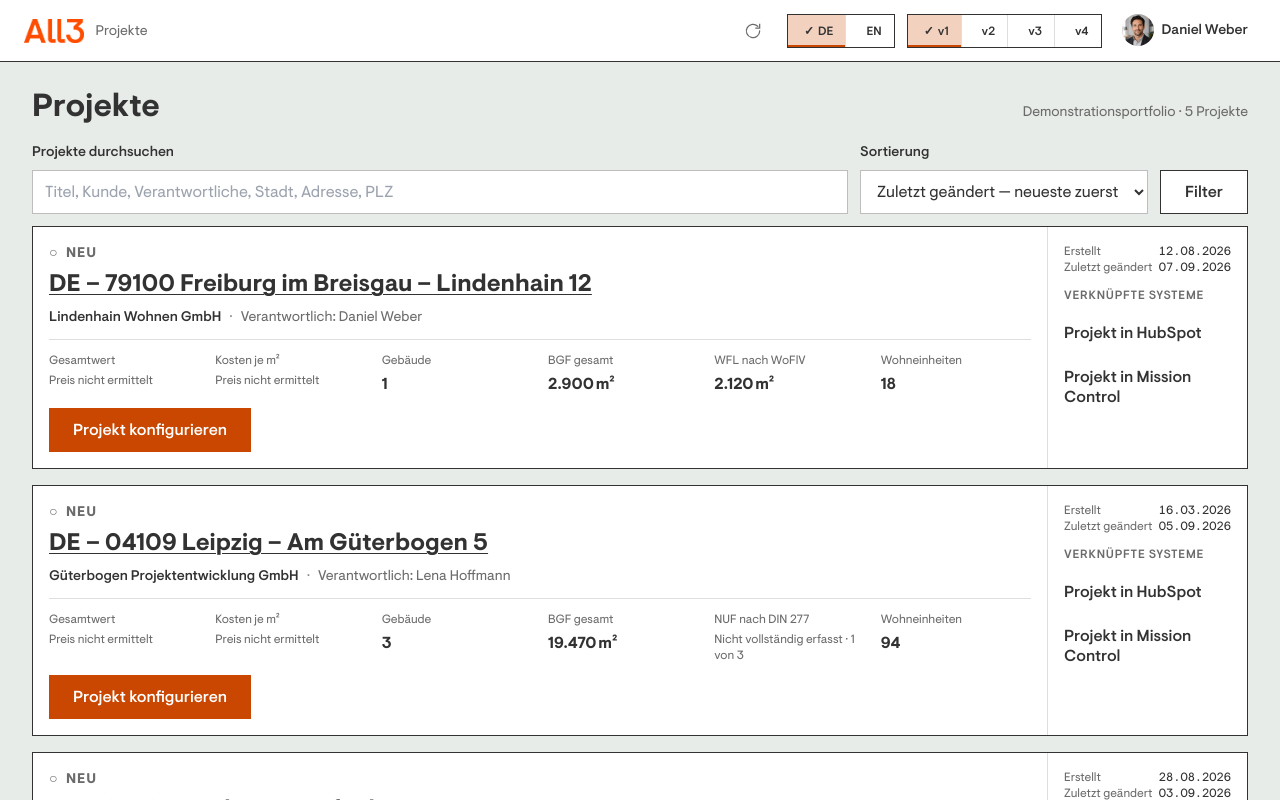
Test: Уровень Projekte › фильтр по клиенту сужает реестр и снимается своим чипом
The width and height of the screenshot is (1280, 800).
Click the button "Filter". click: (1204, 192)
box: left=1160, top=170, right=1248, bottom=214
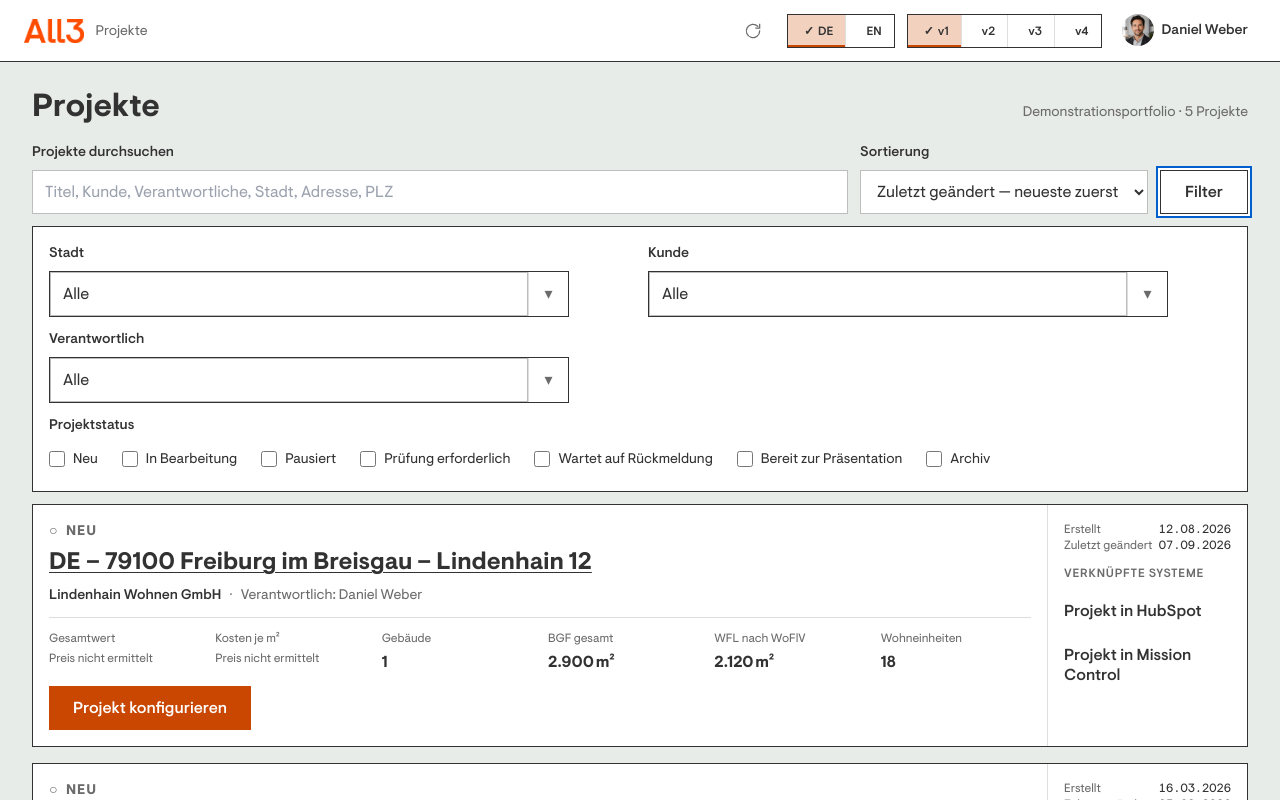
Type "Donauquartier Entwicklung GmbH" into the dropdown labelled "Kunde". click: (888, 294)
box: left=649, top=272, right=1127, bottom=316
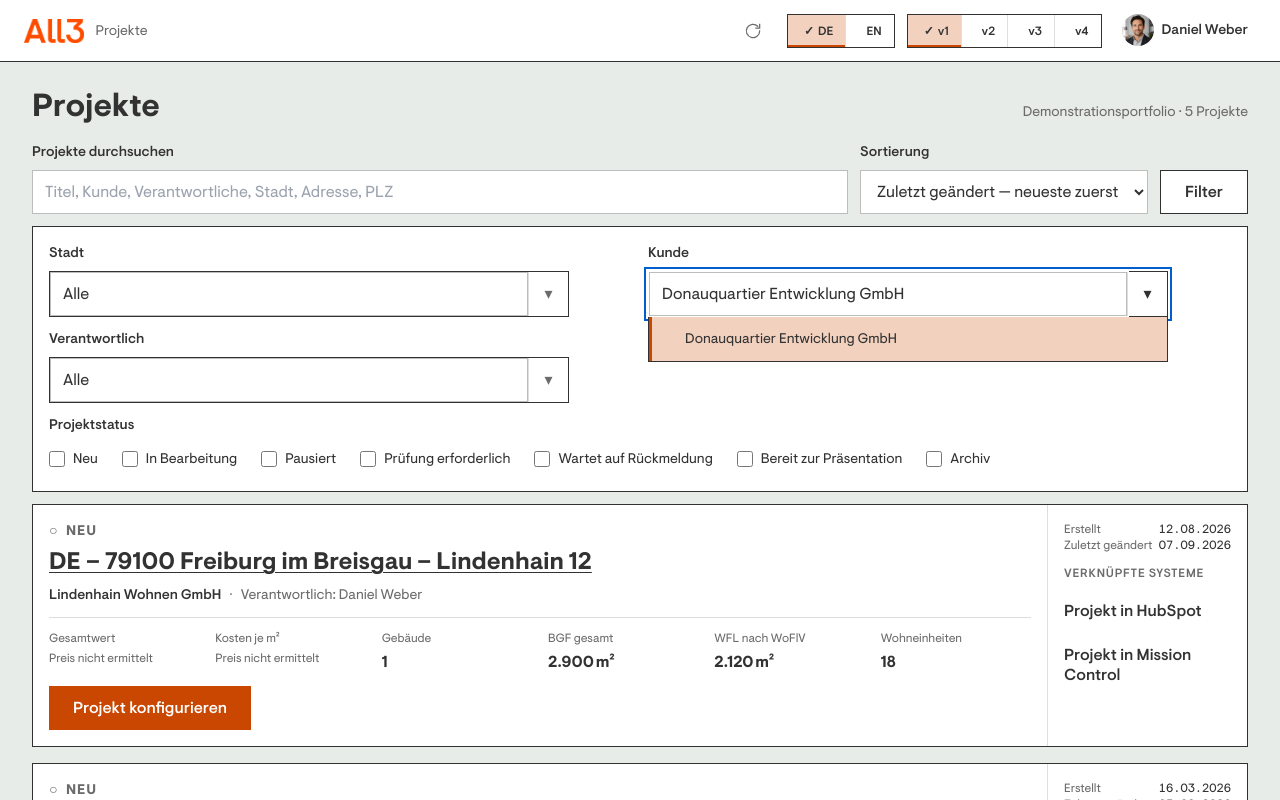
Press Enter
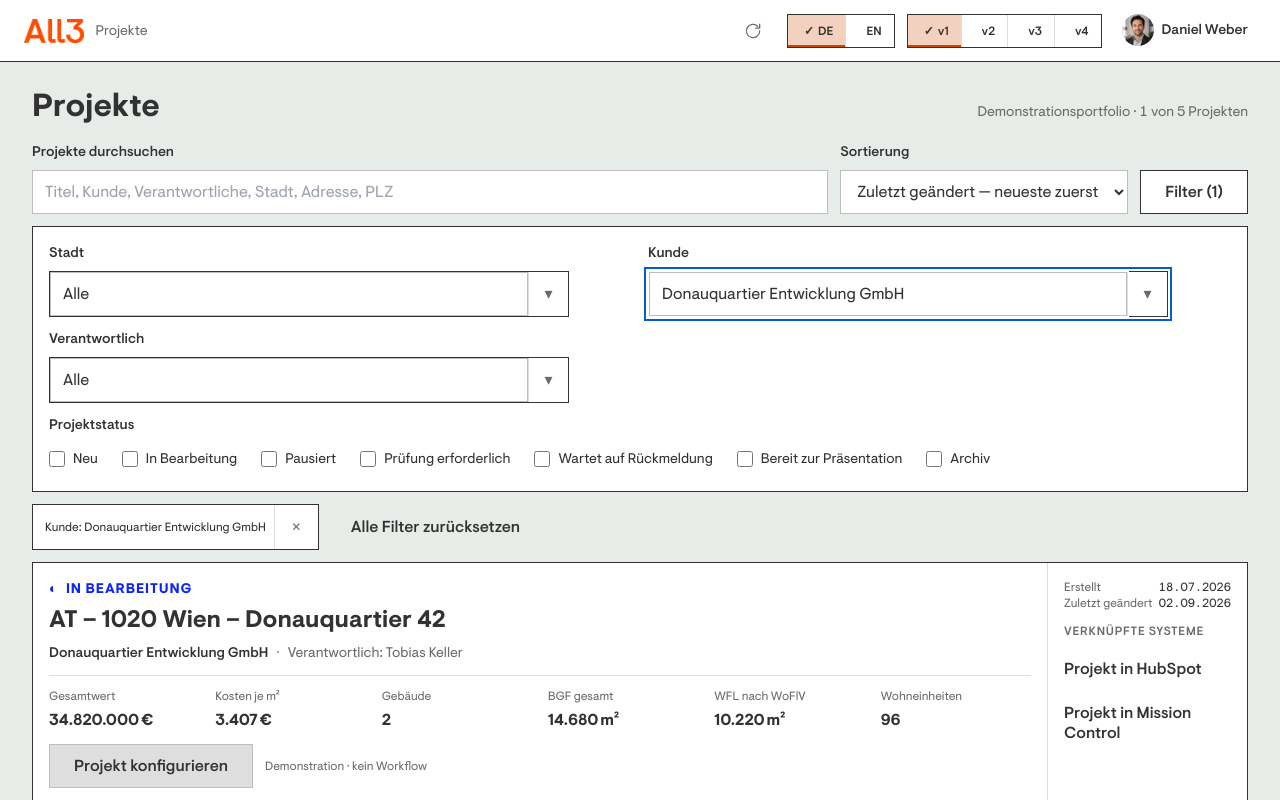
Expected: the text "Kunde: Donauquartier Entwicklung GmbH" is shown, left=45, top=519, right=266, bottom=535
